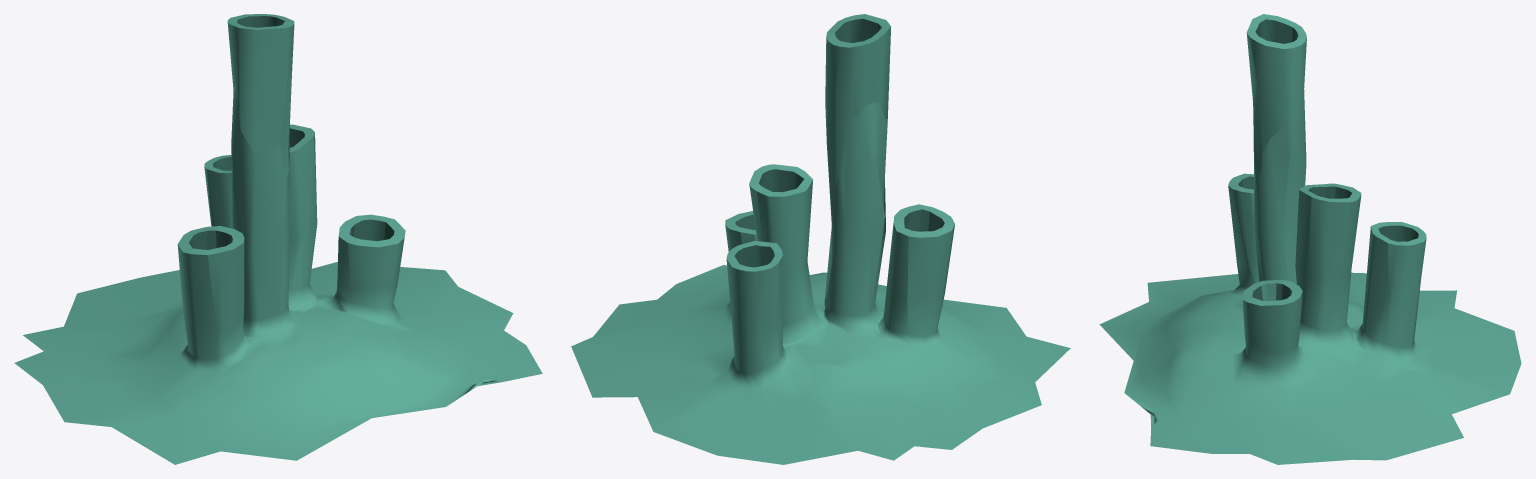
Rendered from coral_tube_B_medium.fbx.
3 renders of one model, left to right at view 1: azimuth 30°, elevation 25°; view 2: azimuth 150°, elevation 25°; view 3: azimuth 270°, elevation 25°, orthographic. The views are drawn at different scales.
Visible parts, largest first — view 1: coral_tube_B_medium; view 2: coral_tube_B_medium; view 3: coral_tube_B_medium.
Part boxes in pixels (x1,y1,x2,y2): coral_tube_B_medium: (14, 14, 542, 464); coral_tube_B_medium: (571, 14, 1070, 464); coral_tube_B_medium: (1099, 14, 1521, 464).
Size of the model in its own units: 100 by 77.81 by 89.74.
